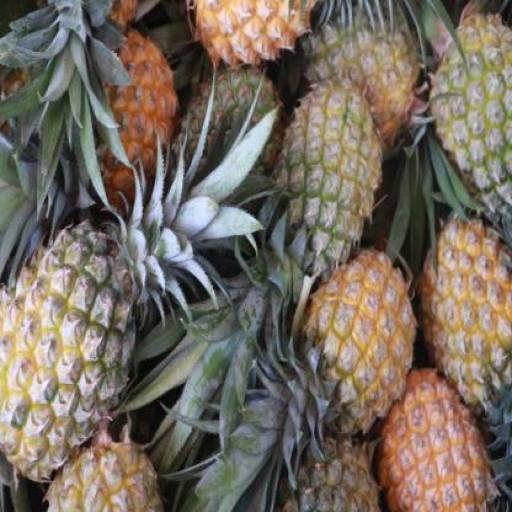------------------------------: (0, 225, 139, 474), (272, 84, 378, 279), (433, 14, 512, 232), (306, 0, 424, 144)
Pineapple - v8 v1: (302, 258, 409, 442), (417, 221, 511, 410), (382, 364, 494, 511)
